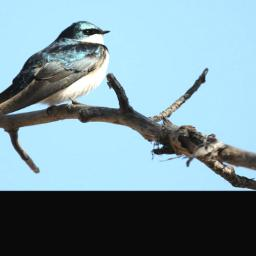Swallow: (0, 20, 112, 123)
